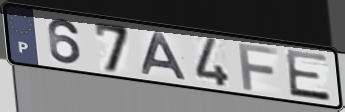4: (193, 36, 232, 88)
6: (45, 17, 84, 67)
7: (93, 20, 132, 75)
A: (140, 31, 190, 82)
E: (283, 48, 334, 104)
F: (236, 40, 281, 92)
